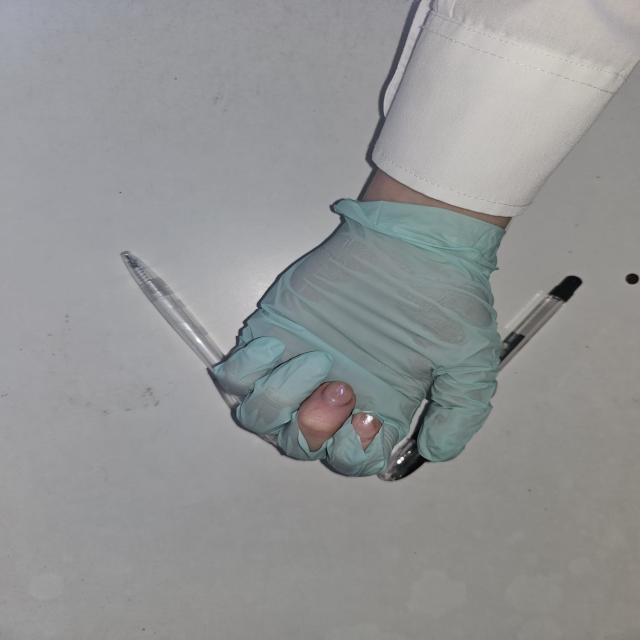gloves_damaged: (209, 196, 503, 478)
